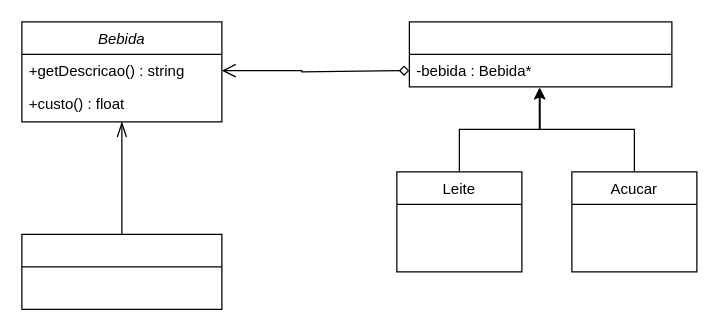
The diagram is 719 pixels wide and 331 high, and some of its shapes have lost their labels. Here are the shapes that lost their labels. From the top down, the box of each, then its label:
(408, 21, 672, 87): DecoradorCondimento
(21, 233, 222, 309): Cafe
